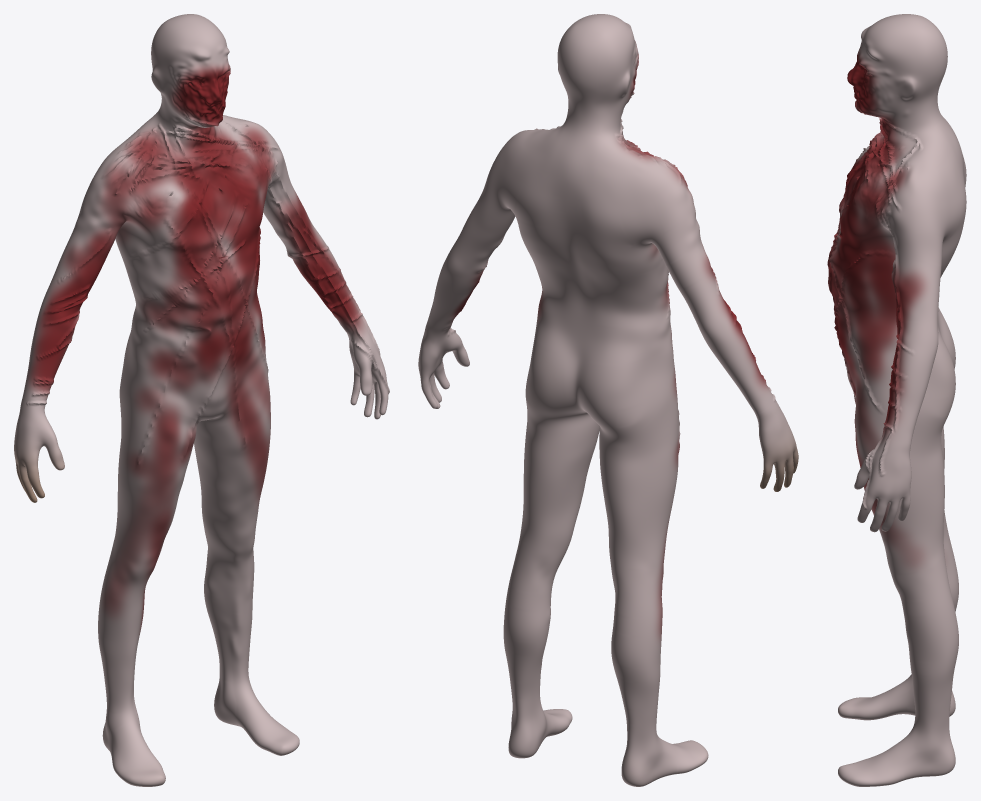
The model's file is dead_body2.glb.
3 renders of one model, left to right at view 1: azimuth 30°, elevation 25°; view 2: azimuth 150°, elevation 25°; view 3: azimuth 270°, elevation 25°, orthographic.
Visible parts, largest first — view 1: Object_2, Object_3, Object_4; view 2: Object_2, Object_3, Object_4; view 3: Object_2, Object_3, Object_4.
Part boxes in pixels (<box>): Object_2: <box>14,99,389,755</box>; Object_3: <box>21,14,376,786</box>; Object_4: <box>14,392,202,785</box>; Object_2: <box>418,128,794,758</box>; Object_3: <box>445,14,775,786</box>; Object_4: <box>567,212,798,786</box>; Object_2: <box>832,79,966,786</box>; Object_3: <box>827,14,966,720</box>; Object_4: <box>852,313,951,720</box>.
Size of the model in its own units: 95.11 by 183 by 31.48.
Materials: 1 (1 with a texture image).
